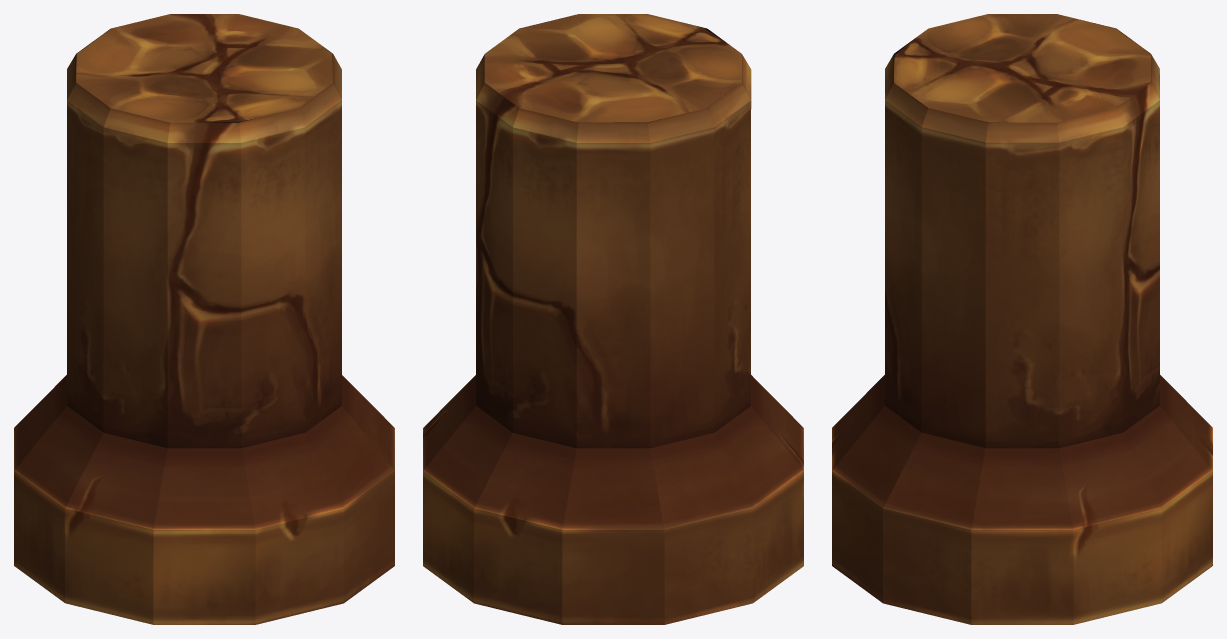
The model's file is 1014_Gidoong_jogak_02.FBX.
3 views of the same model, side by side, from view 1: azimuth 30°, elevation 25°; view 2: azimuth 150°, elevation 25°; view 3: azimuth 270°, elevation 25° (orthographic).
Parts seen in each view (by area): view 1: Object002; view 2: Object002; view 3: Object002.
Part boxes in pixels (box(x1,y1,x2,y2)): Object002: box(14, 14, 394, 624); Object002: box(423, 14, 803, 624); Object002: box(832, 14, 1212, 624).
Size of the model in its own units: 88.31 by 122 by 88.32.
Materials: 1 (1 with a texture image).
